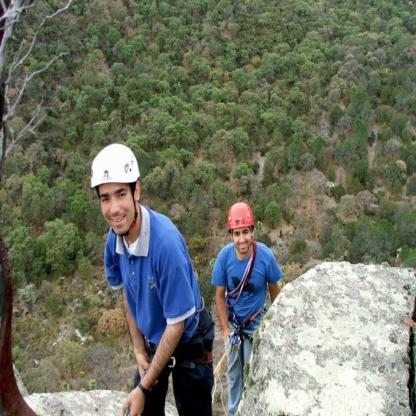Helmet: (90, 145, 140, 238), (224, 203, 255, 251)
